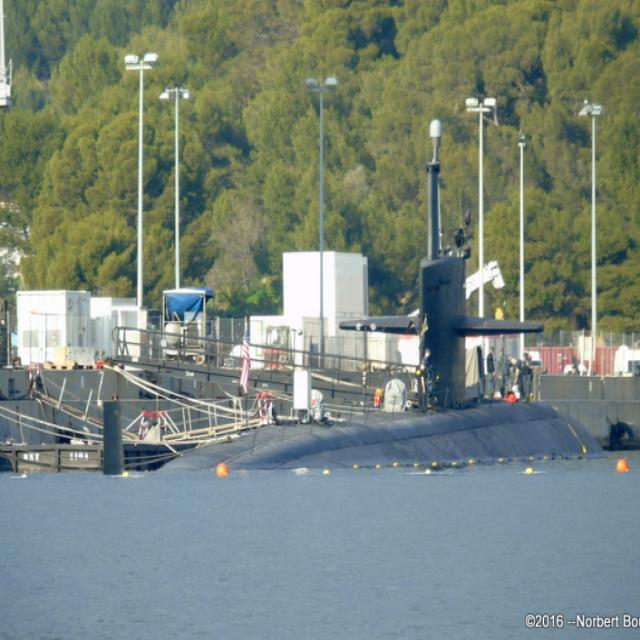submarine: (98, 146, 619, 463)
